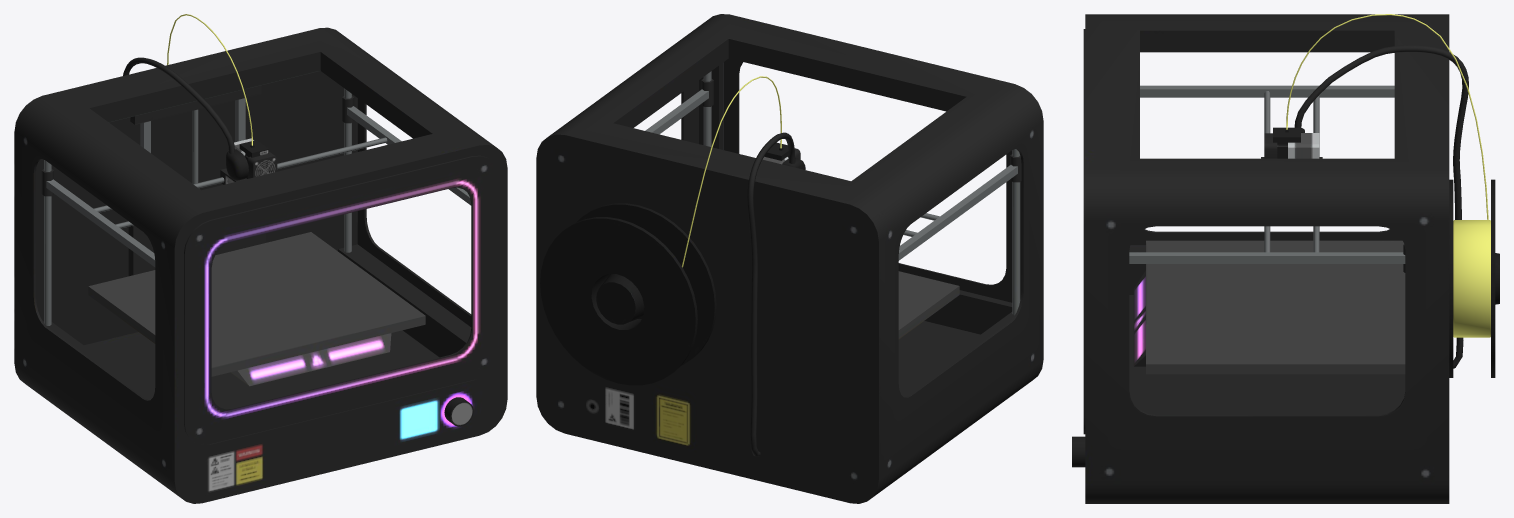
Rendered from 3d_printer_model.glb.
3 renders of one model, left to right at view 1: azimuth 30°, elevation 25°; view 2: azimuth 150°, elevation 25°; view 3: azimuth 270°, elevation 25°, orthographic. The views are drawn at different scales.
Visible parts, largest first — view 1: printer_01_low, printer_02_low, printer_04_low, printer_06_low, printer_09_low, printer_08_low, printer_15_low, printer_03_low, printer_05_low, printer_11_low, printer_21_low, printer_13_low; view 2: printer_01_low, printer_16_low, printer_17_low, printer_04_low, printer_15_low, printer_02_low, printer_06_low, printer_14_low; view 3: printer_01_low, printer_02_low, printer_04_low, printer_18_low, printer_15_low, printer_16_low, printer_11_low, printer_17_low, printer_03_low, printer_14_low.
Boxes of the visible parts, bbox=[...] form: printer_01_low: bbox=[14, 27, 507, 503]; printer_02_low: bbox=[88, 232, 425, 386]; printer_04_low: bbox=[46, 106, 471, 267]; printer_06_low: bbox=[44, 88, 351, 325]; printer_09_low: bbox=[128, 225, 265, 276]; printer_08_low: bbox=[130, 85, 261, 124]; printer_15_low: bbox=[123, 57, 234, 153]; printer_03_low: bbox=[94, 137, 387, 228]; printer_05_low: bbox=[140, 98, 245, 152]; printer_11_low: bbox=[234, 138, 277, 178]; printer_21_low: bbox=[444, 397, 473, 426]; printer_13_low: bbox=[226, 149, 248, 180]; printer_01_low: bbox=[536, 14, 1043, 503]; printer_16_low: bbox=[540, 217, 697, 385]; printer_17_low: bbox=[576, 203, 716, 365]; printer_04_low: bbox=[645, 89, 1017, 260]; printer_15_low: bbox=[747, 132, 795, 456]; printer_02_low: bbox=[898, 271, 959, 338]; printer_06_low: bbox=[703, 71, 1020, 315]; printer_14_low: bbox=[682, 76, 781, 267]; printer_01_low: bbox=[1083, 14, 1449, 503]; printer_02_low: bbox=[1133, 240, 1405, 374]; printer_04_low: bbox=[1129, 85, 1405, 263]; printer_18_low: bbox=[1453, 220, 1490, 337]; printer_15_low: bbox=[1294, 45, 1468, 368]; printer_16_low: bbox=[1491, 179, 1499, 377]; printer_11_low: bbox=[1264, 133, 1319, 158]; printer_17_low: bbox=[1449, 179, 1453, 377]; printer_03_low: bbox=[1264, 91, 1319, 252]; printer_14_low: bbox=[1286, 14, 1488, 219].
Size of the model in its own units: 60 by 61.31 by 58.77.
Materials: 1 (1 with a texture image).
